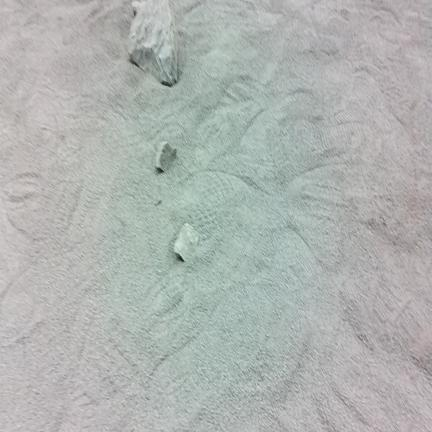Rock: (128, 0, 177, 86), (174, 224, 198, 261), (155, 142, 176, 172)
